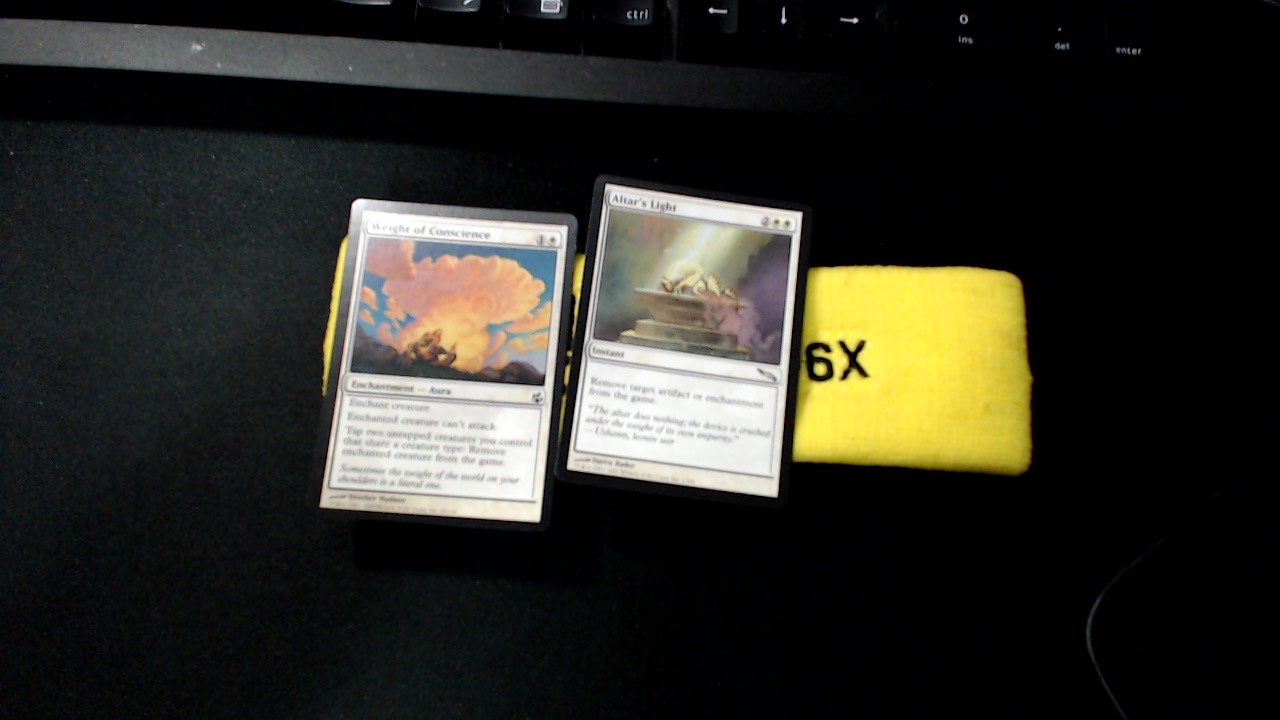MTG Card: (554, 169, 833, 531), (304, 187, 582, 541)
